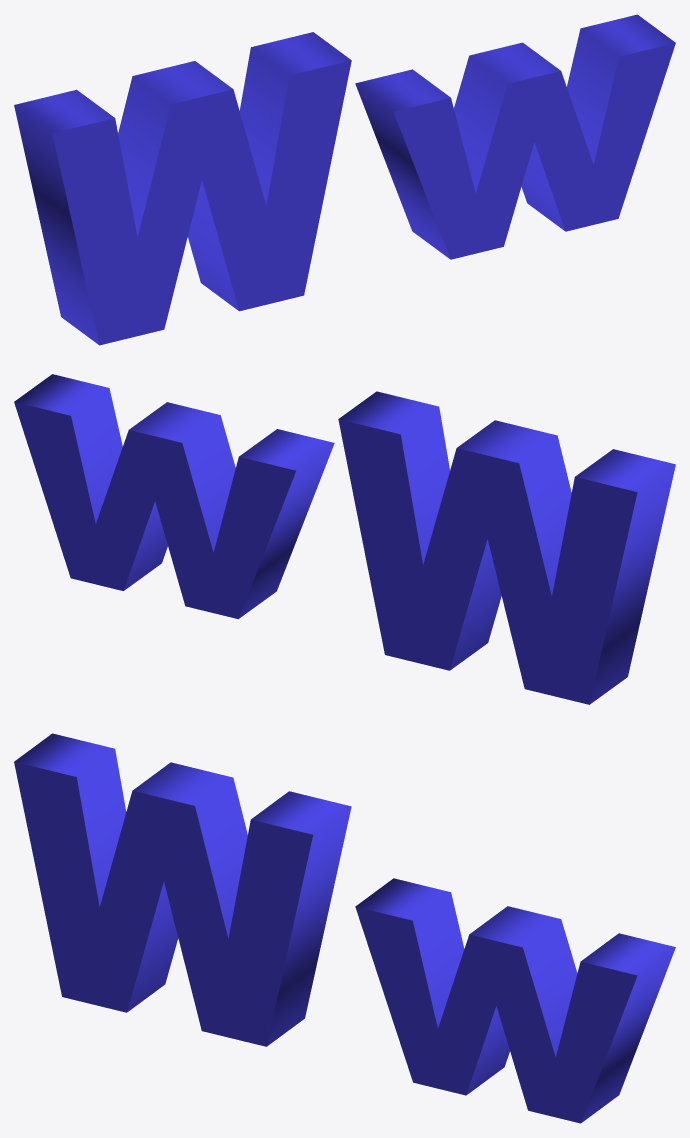
Rendered from letra w.fbx.
3 renders of one model, top to bottom at view 1: azimuth 30°, elevation 25°; view 2: azimuth 150°, elevation 25°; view 3: azimuth 330°, elevation 25°, orthographic.
Parts seen in each view (by area): view 1: Text; view 2: Text; view 3: Text.
Part boxes in pixels (box(x1,y1,x2,y2)): Text: box(14, 14, 675, 345); Text: box(14, 374, 675, 704); Text: box(14, 733, 675, 1123).
Size of the model in its own units: 150 by 51.56 by 16.21.
